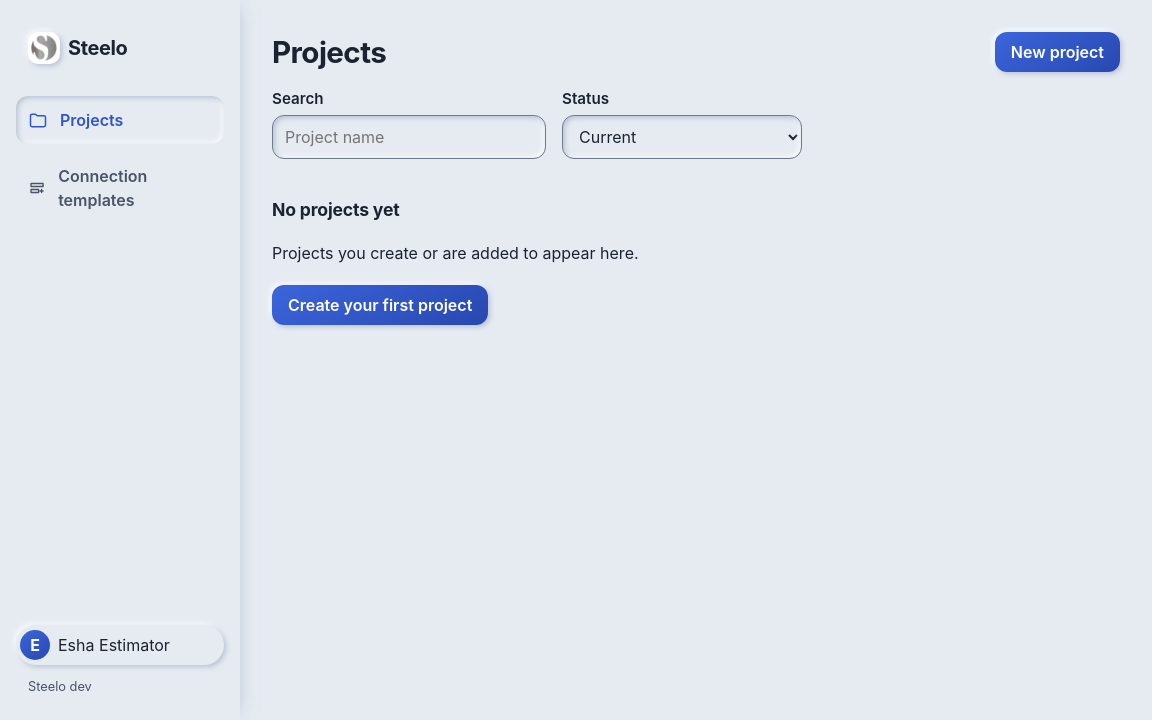
Scenario: Connection templates › is reached from the main navigation
Click the link "Connection templates": (88, 188) [28,166,147,210]
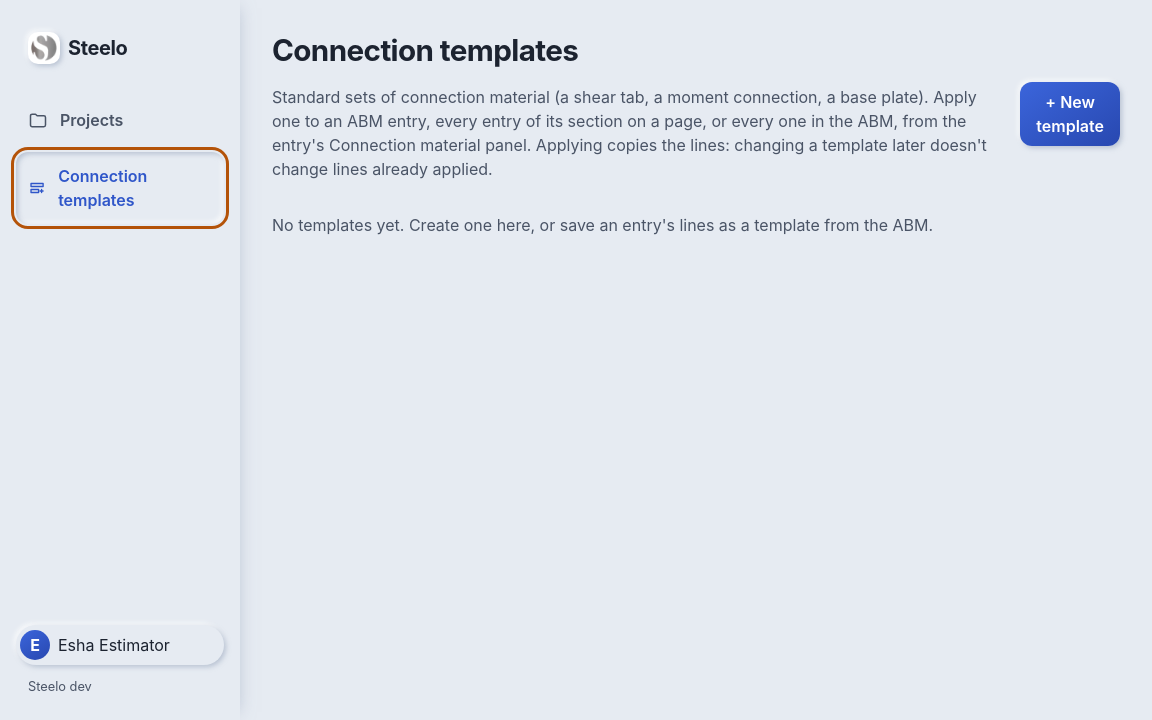
Result: the heading "Connection templates" is shown at [272,32,578,68]
Result: the text "No templates yet" is shown at [272,215,933,235]
